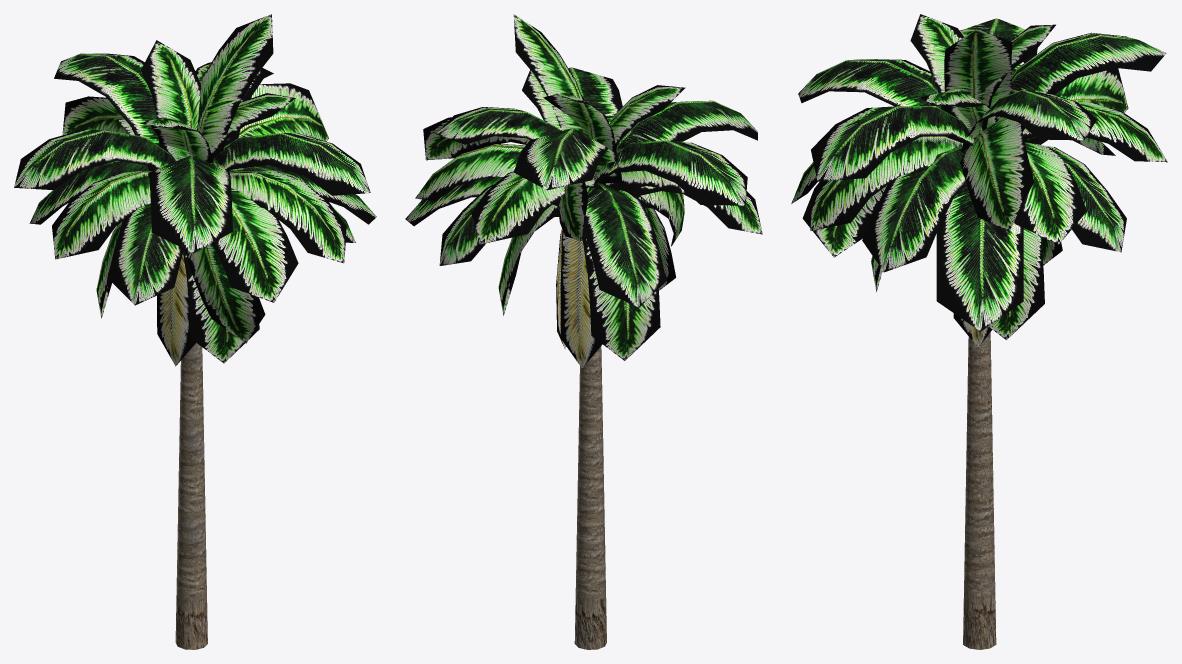
File: palm6.dae
3 views of the same model, side by side, from view 1: azimuth 30°, elevation 25°; view 2: azimuth 150°, elevation 25°; view 3: azimuth 270°, elevation 25° (orthographic). The views are drawn at different scales.
Visible parts, largest first — view 1: polySurface335_001_003; view 2: polySurface335_001_003; view 3: polySurface335_001_003.
Part boxes in pixels (x1=…): polySurface335_001_003: x1=14, y1=14, x2=376, y2=649; polySurface335_001_003: x1=405, y1=14, x2=762, y2=649; polySurface335_001_003: x1=791, y1=14, x2=1167, y2=649.
Size of the model in its own units: 6.73 by 5.82 by 11.16.
Materials: 2 (2 with a texture image).
